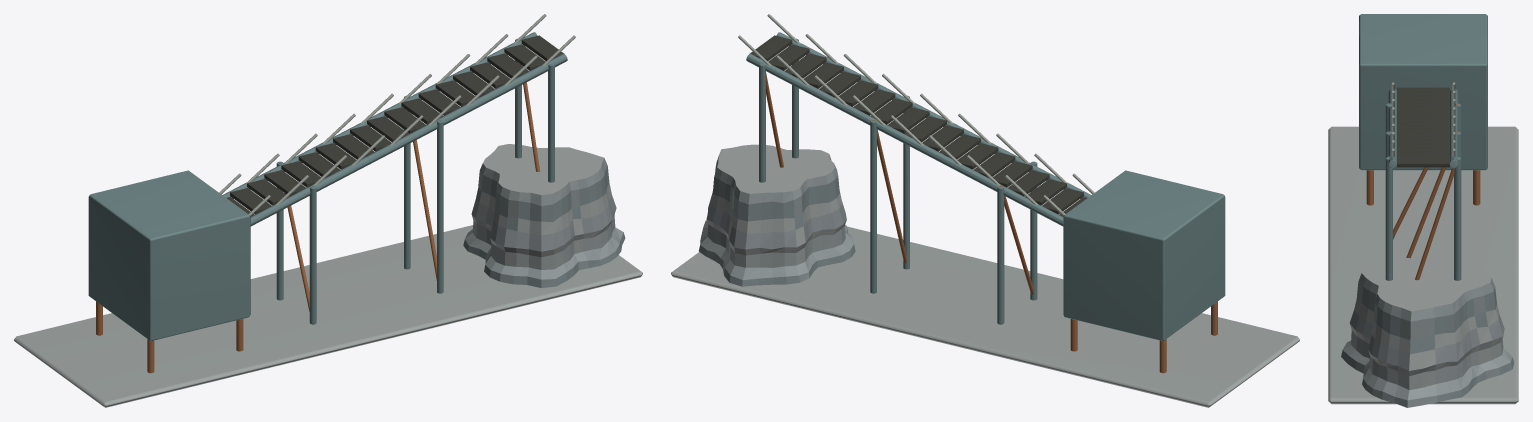
File: QuarryConveyor.glb
3 renders of one model, left to right at view 1: azimuth 30°, elevation 25°; view 2: azimuth 150°, elevation 25°; view 3: azimuth 270°, elevation 25°, orthographic. The views are drawn at different scales.
Visible parts, largest first — view 1: Loading pad, Feed hopper, Discharged aggregate, Long conveyor truss, Long conveyor truss.001, Conveyor support.002, Conveyor support, Conveyor support.003, Conveyor support.004, Conveyor support.001, Support cross brace.001; view 2: Loading pad, Feed hopper, Discharged aggregate, Long conveyor truss.001, Long conveyor truss, Conveyor support.003, Conveyor support.001, Conveyor support.002, Conveyor support.005, Conveyor support, Support cross brace.001; view 3: Loading pad, Discharged aggregate, Feed hopper, Conveyor support.004, Conveyor support.005, Conveyor belt segment.019, Support cross brace.002, Long conveyor truss, Long conveyor truss.001, Support cross brace.001, Support cross brace, Hopper leg.002 (+19 smaller).
Part boxes in pixels (x1,y1,x2,y2): Loading pad: [14, 225, 642, 407]; Feed hopper: [88, 170, 250, 341]; Discharged aggregate: [463, 144, 625, 287]; Long conveyor truss: [250, 53, 567, 226]; Long conveyor truss.001: [222, 32, 537, 198]; Conveyor support.002: [437, 120, 443, 293]; Conveyor support: [309, 186, 316, 324]; Conveyor support.003: [404, 95, 410, 269]; Conveyor support.004: [548, 63, 554, 182]; Conveyor support.001: [276, 161, 283, 300]; Support cross brace.001: [408, 111, 436, 280]; Loading pad: [671, 226, 1299, 407]; Feed hopper: [1063, 170, 1225, 341]; Discharged aggregate: [699, 144, 855, 286]; Long conveyor truss.001: [746, 53, 1063, 226]; Long conveyor truss: [776, 32, 1091, 198]; Conveyor support.003: [870, 120, 876, 293]; Conveyor support.001: [997, 186, 1004, 324]; Conveyor support.002: [903, 95, 909, 269]; Conveyor support.005: [759, 63, 765, 182]; Conveyor support: [1030, 161, 1037, 300]; Support cross brace.001: [872, 120, 906, 262]; Loading pad: [1328, 126, 1518, 404]; Discharged aggregate: [1341, 257, 1514, 407]; Feed hopper: [1359, 14, 1487, 170]; Conveyor support.004: [1385, 156, 1392, 280]; Conveyor support.005: [1454, 156, 1461, 280]; Conveyor belt segment.019: [1397, 154, 1449, 167]; Support cross brace.002: [1415, 157, 1457, 280]; Long conveyor truss: [1388, 89, 1396, 168]; Long conveyor truss.001: [1450, 89, 1458, 168]; Support cross brace.001: [1406, 132, 1457, 257]; Support cross brace: [1393, 103, 1457, 239]; Hopper leg.002: [1366, 170, 1373, 205].
Bounding box in the file's own units: 17.6 × 6.89 × 5.
